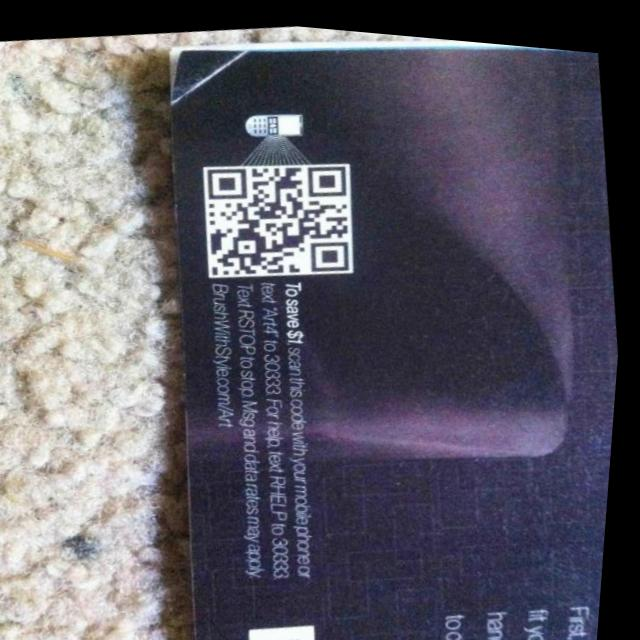qrcode: (202, 147, 363, 283)
